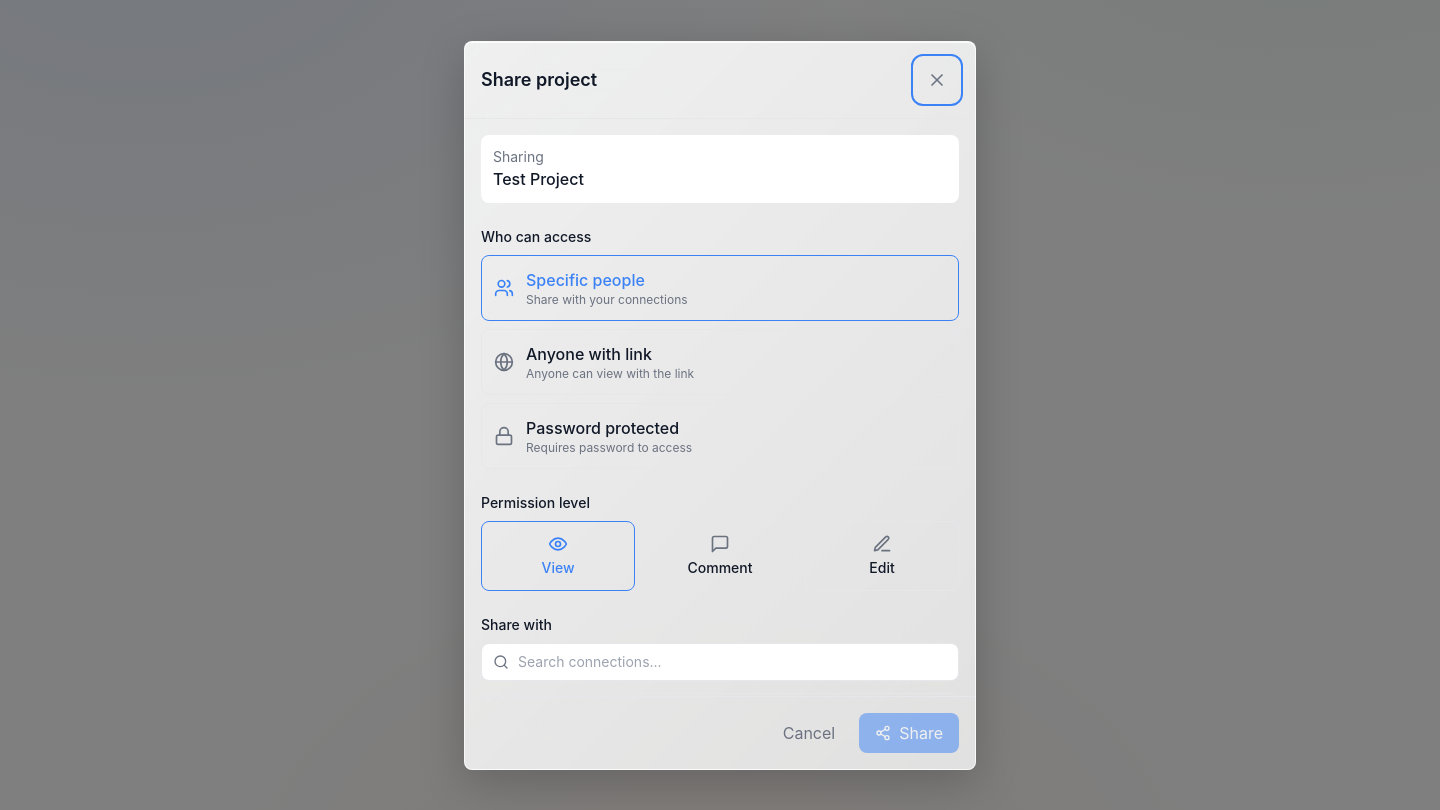
Test: ShareModal › shows password input when password protected selected
The image size is (1440, 810).
Click the text "Password protected": (609, 428) [526,416,692,440]
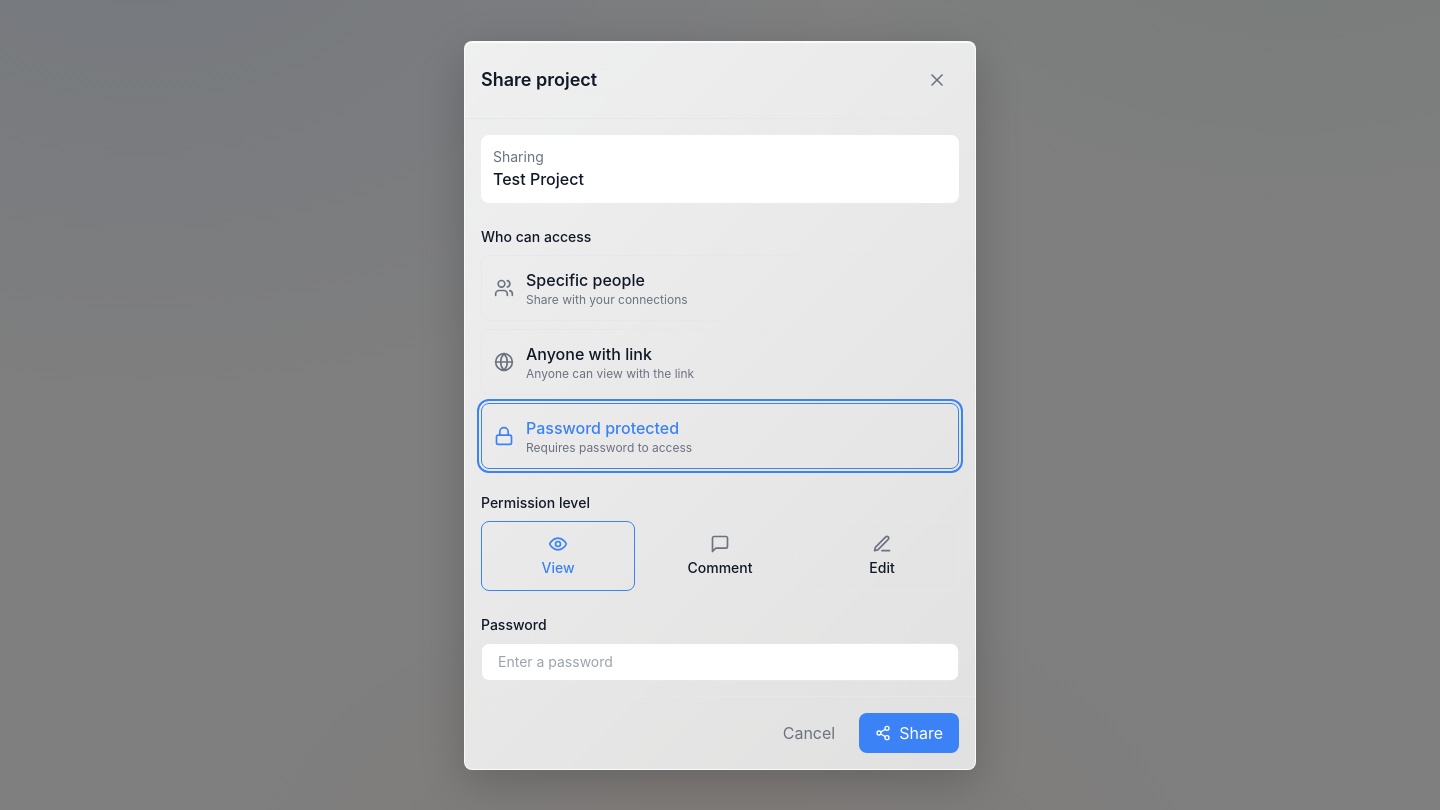
Expected: the field with placeholder "Enter a password" is shown, [481,642,959,680]
